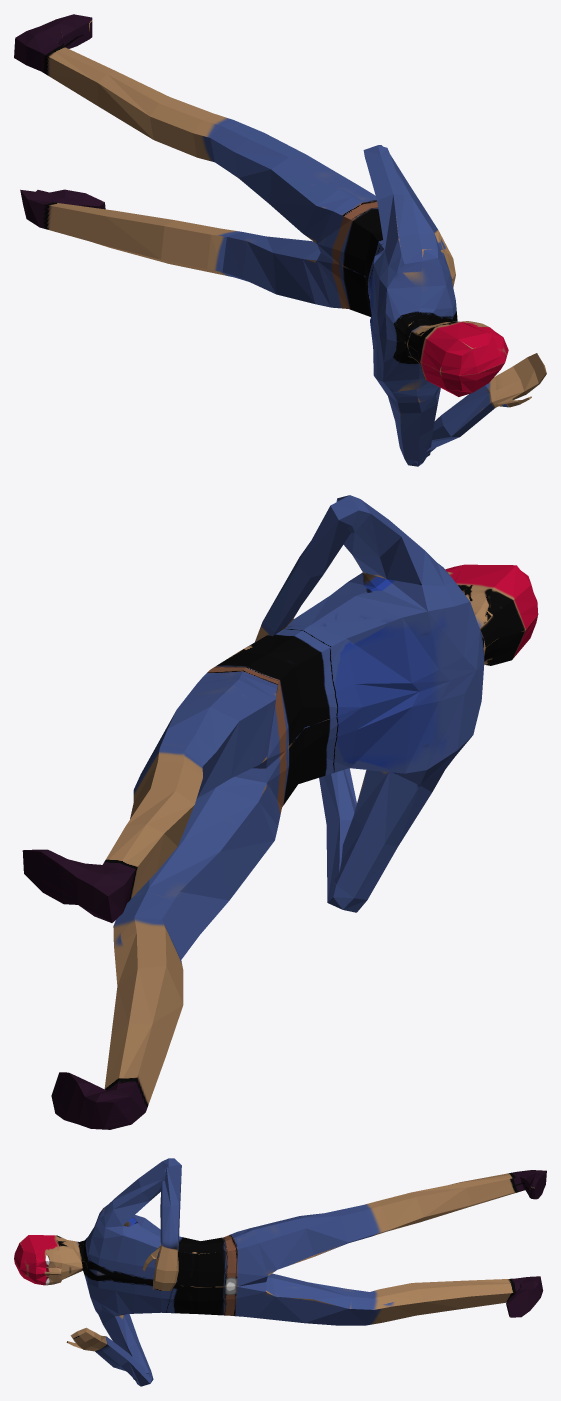
The model's file is mirrorman_000019.obj.
3 views of the same model, one above another, from view 1: azimuth 30°, elevation 25°; view 2: azimuth 150°, elevation 25°; view 3: azimuth 270°, elevation 25° (orthographic). The views are drawn at different scales.
Parts seen in each view (by area): view 1: mirrorman_Cube.001_Material.001; view 2: mirrorman_Cube.001_Material.001; view 3: mirrorman_Cube.001_Material.001.
Part boxes in pixels (left/top/right/bottom): mirrorman_Cube.001_Material.001: left=14, top=14, right=546, bottom=466; mirrorman_Cube.001_Material.001: left=22, top=495, right=538, bottom=1129; mirrorman_Cube.001_Material.001: left=14, top=1158, right=546, bottom=1386.
Size of the model in its own units: 0.5703 by 0.8359 by 1.83.
1 material, 1 textured.
